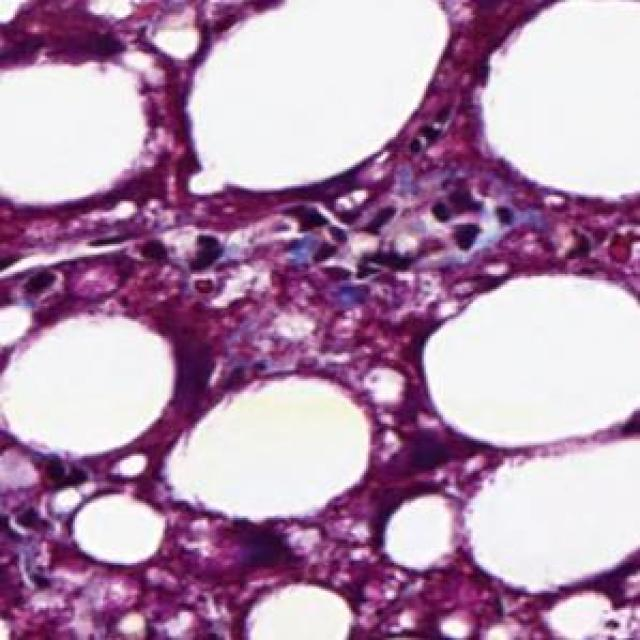inflammation: (278, 175, 516, 287)
